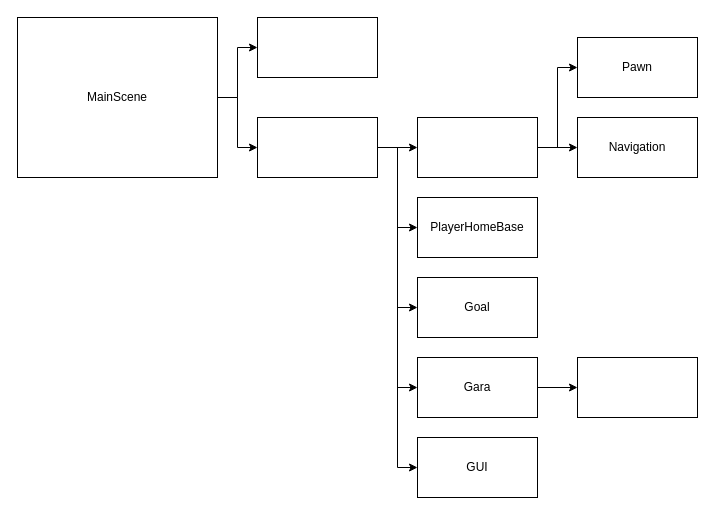
Image size: 715x515. Some labels were removed from this diagram. The centre of each missing label's shape, as x and y in pixels:
Background and T TileMap: point 317,47
GameManager: point 317,147
Koude: point 637,387
Player: point 477,147
